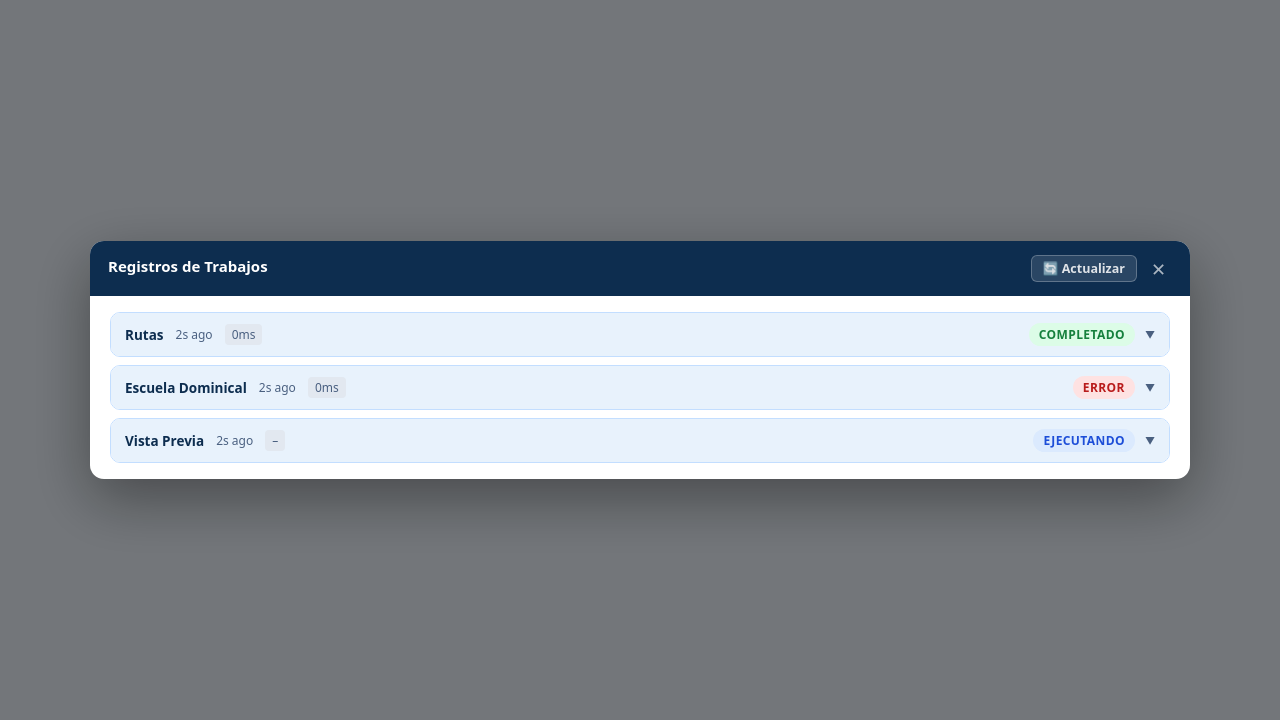
Test: LogsModal › shows "Sin salida." for jobs with no output
The image size is (1280, 720).
Expected: the text "Vista Previa" is shown, [125,432,204,450]
Step 1. Click the button "Vista Previa 2s ago – Ejecutando ▼" → (165, 440), box [111,419,1169,462]
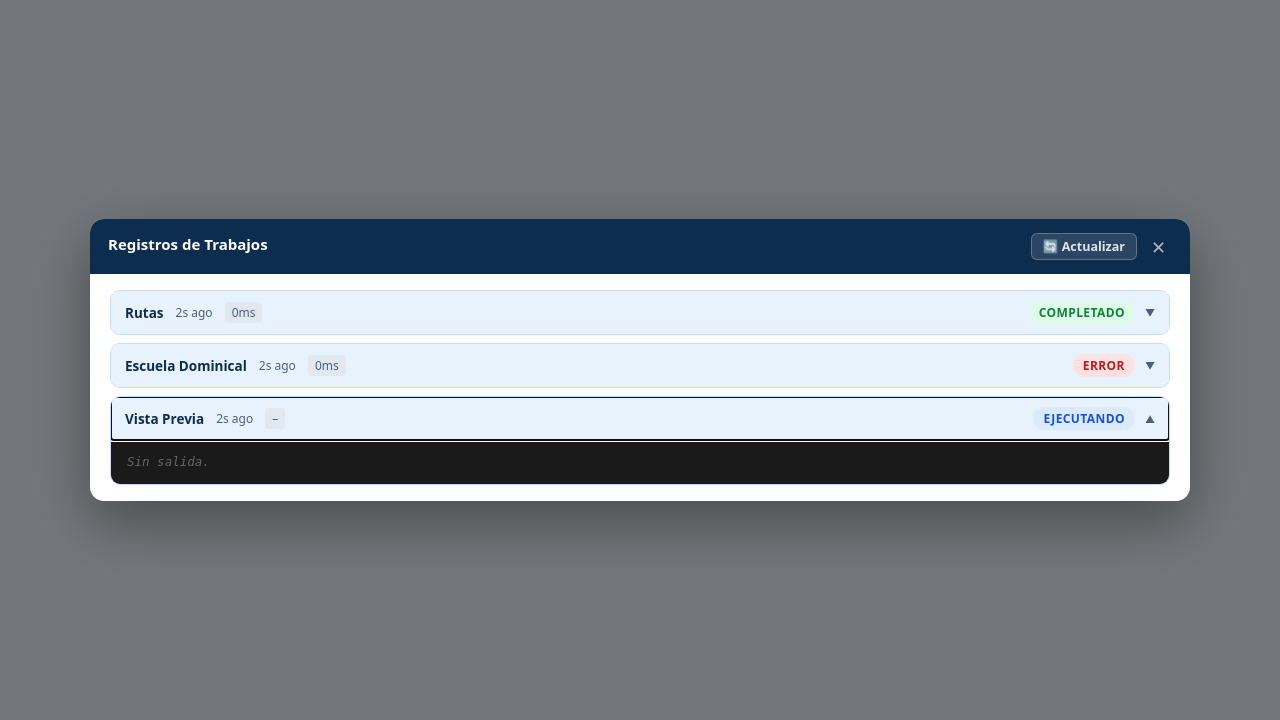
Result: the text "Sin salida." is shown at [127,454,210,469]
